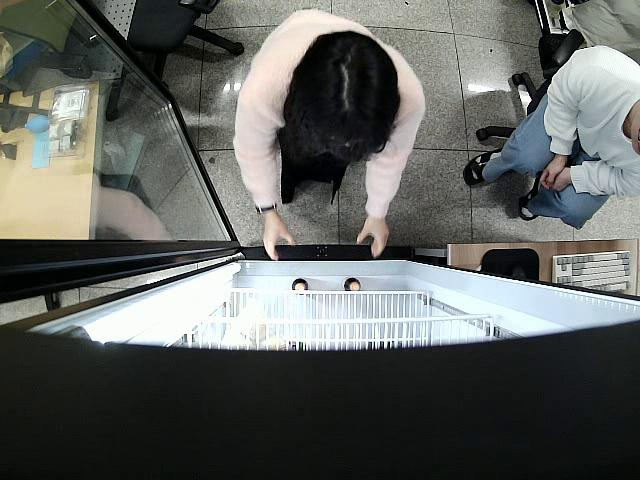00_hand: (357, 217, 391, 259), (262, 223, 297, 262)
